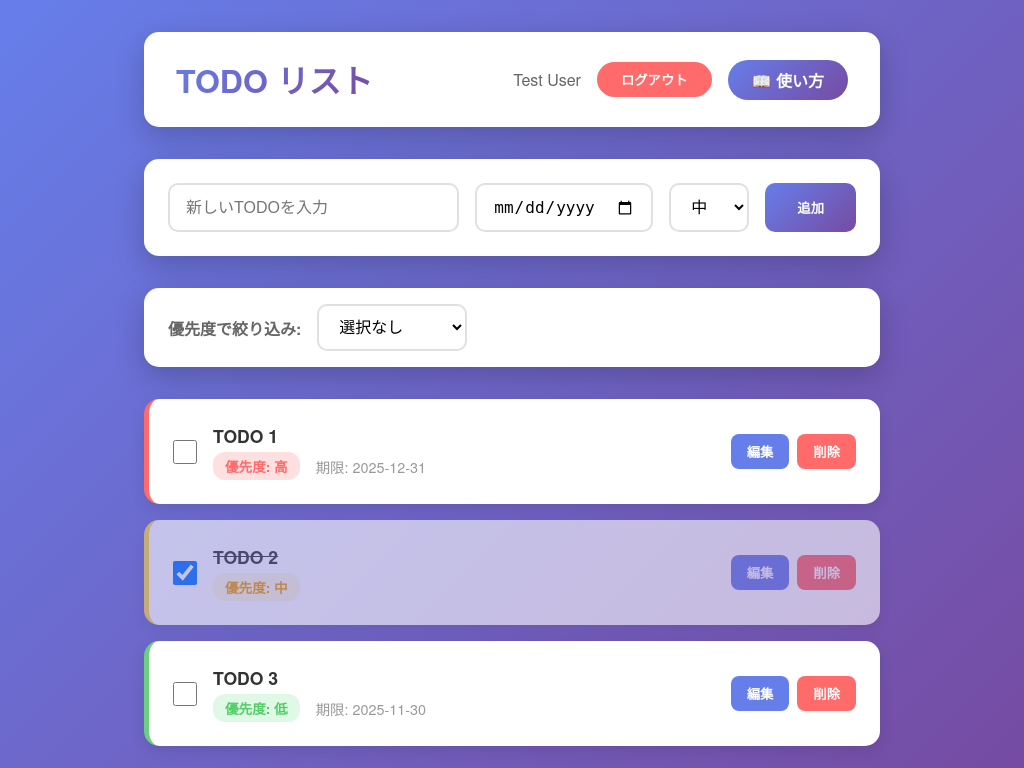
Test: Todos › 優先度フィルターで「低」を選択すると優先度が低のTODOのみ表示される
Expected: the heading "TODO 1" is shown, [213, 423, 278, 448]
Select "低" in the dropdown labelled "優先度で絞り込み:". click: (392,328)
box: [317, 304, 467, 351]
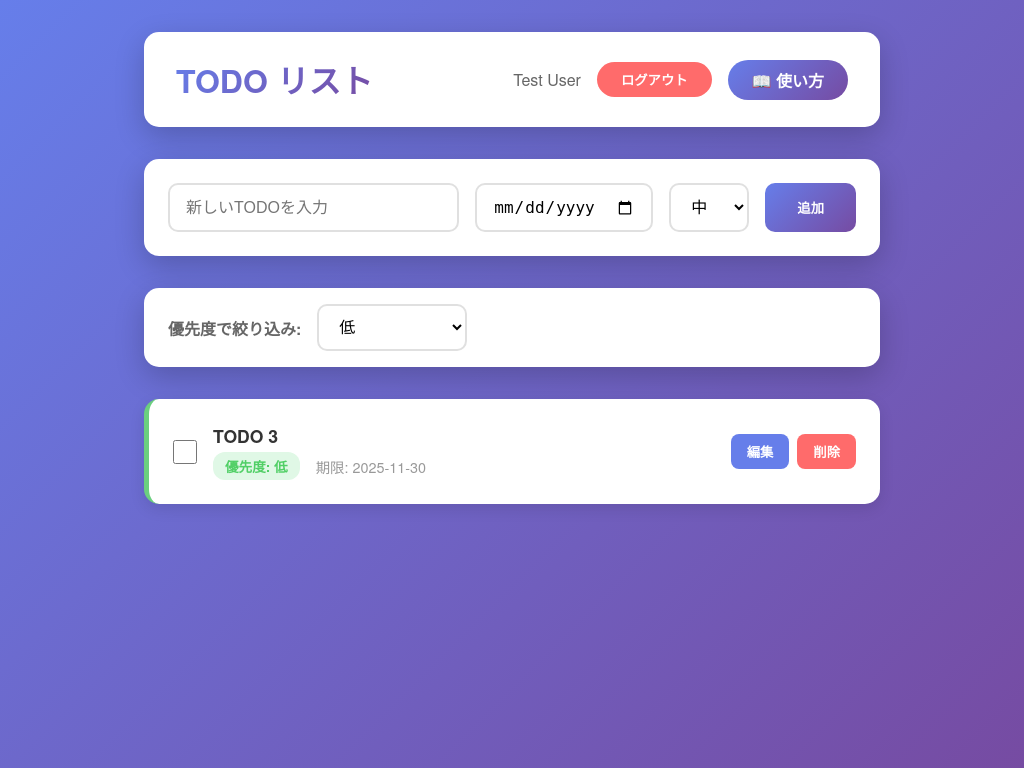
Expected: the heading "TODO 3" is shown, [213, 423, 278, 448]
Expected: the heading "TODO 1" is gone
Expected: the heading "TODO 2" is gone
